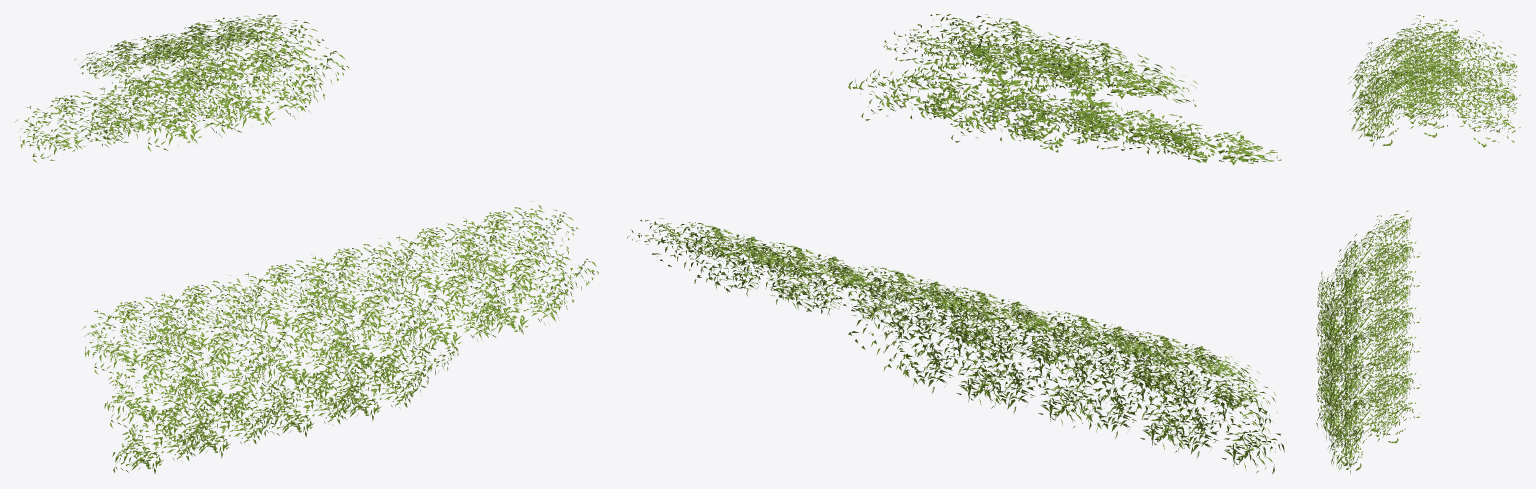
Rendered from 35_openskp_material_70.obj.
3 renders of one model, left to right at view 1: azimuth 30°, elevation 25°; view 2: azimuth 150°, elevation 25°; view 3: azimuth 270°, elevation 25°, orthographic. The views are drawn at different scales.
Visible parts, largest first — view 1: 35_openskp_material_70; view 2: 35_openskp_material_70; view 3: 35_openskp_material_70.
Part boxes in pixels (left/top/right/bottom): 35_openskp_material_70: left=15, top=14, right=598, bottom=473; 35_openskp_material_70: left=627, top=14, right=1286, bottom=474; 35_openskp_material_70: left=1316, top=15, right=1520, bottom=473.
Bounding box in the file's own units: 50.96 × 32.39 × 18.57.
